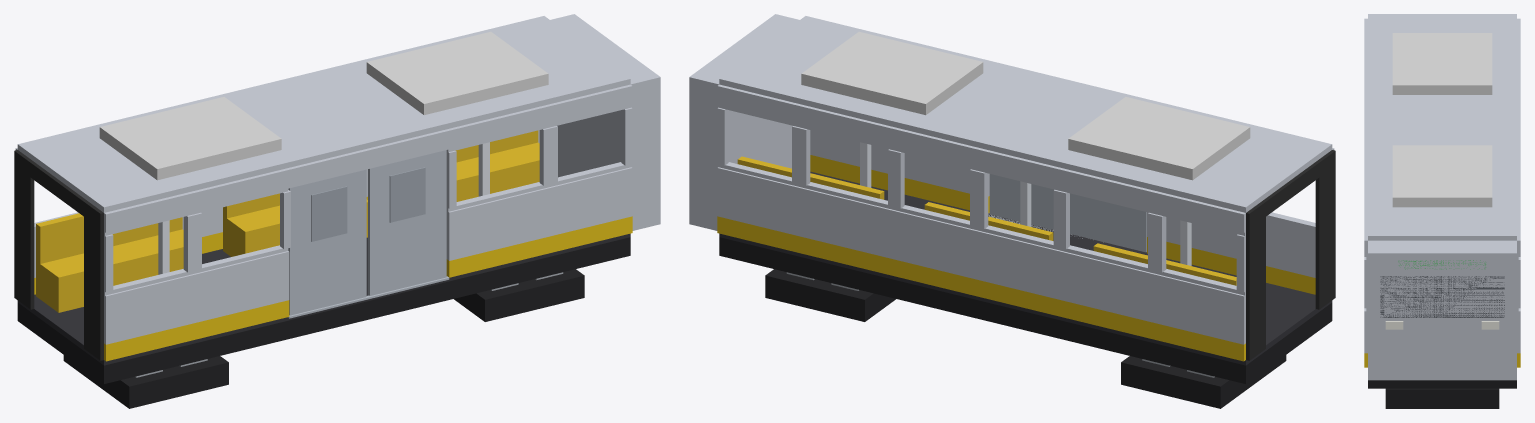
File: metro_wagon_lead_closed_l4.obj
3 renders of one model, left to right at view 1: azimuth 30°, elevation 25°; view 2: azimuth 150°, elevation 25°; view 3: azimuth 270°, elevation 25°, orthographic. The views are drawn at different scales.
Bounding box in the file's own units: 3.16 × 1.26 × 0.88.
